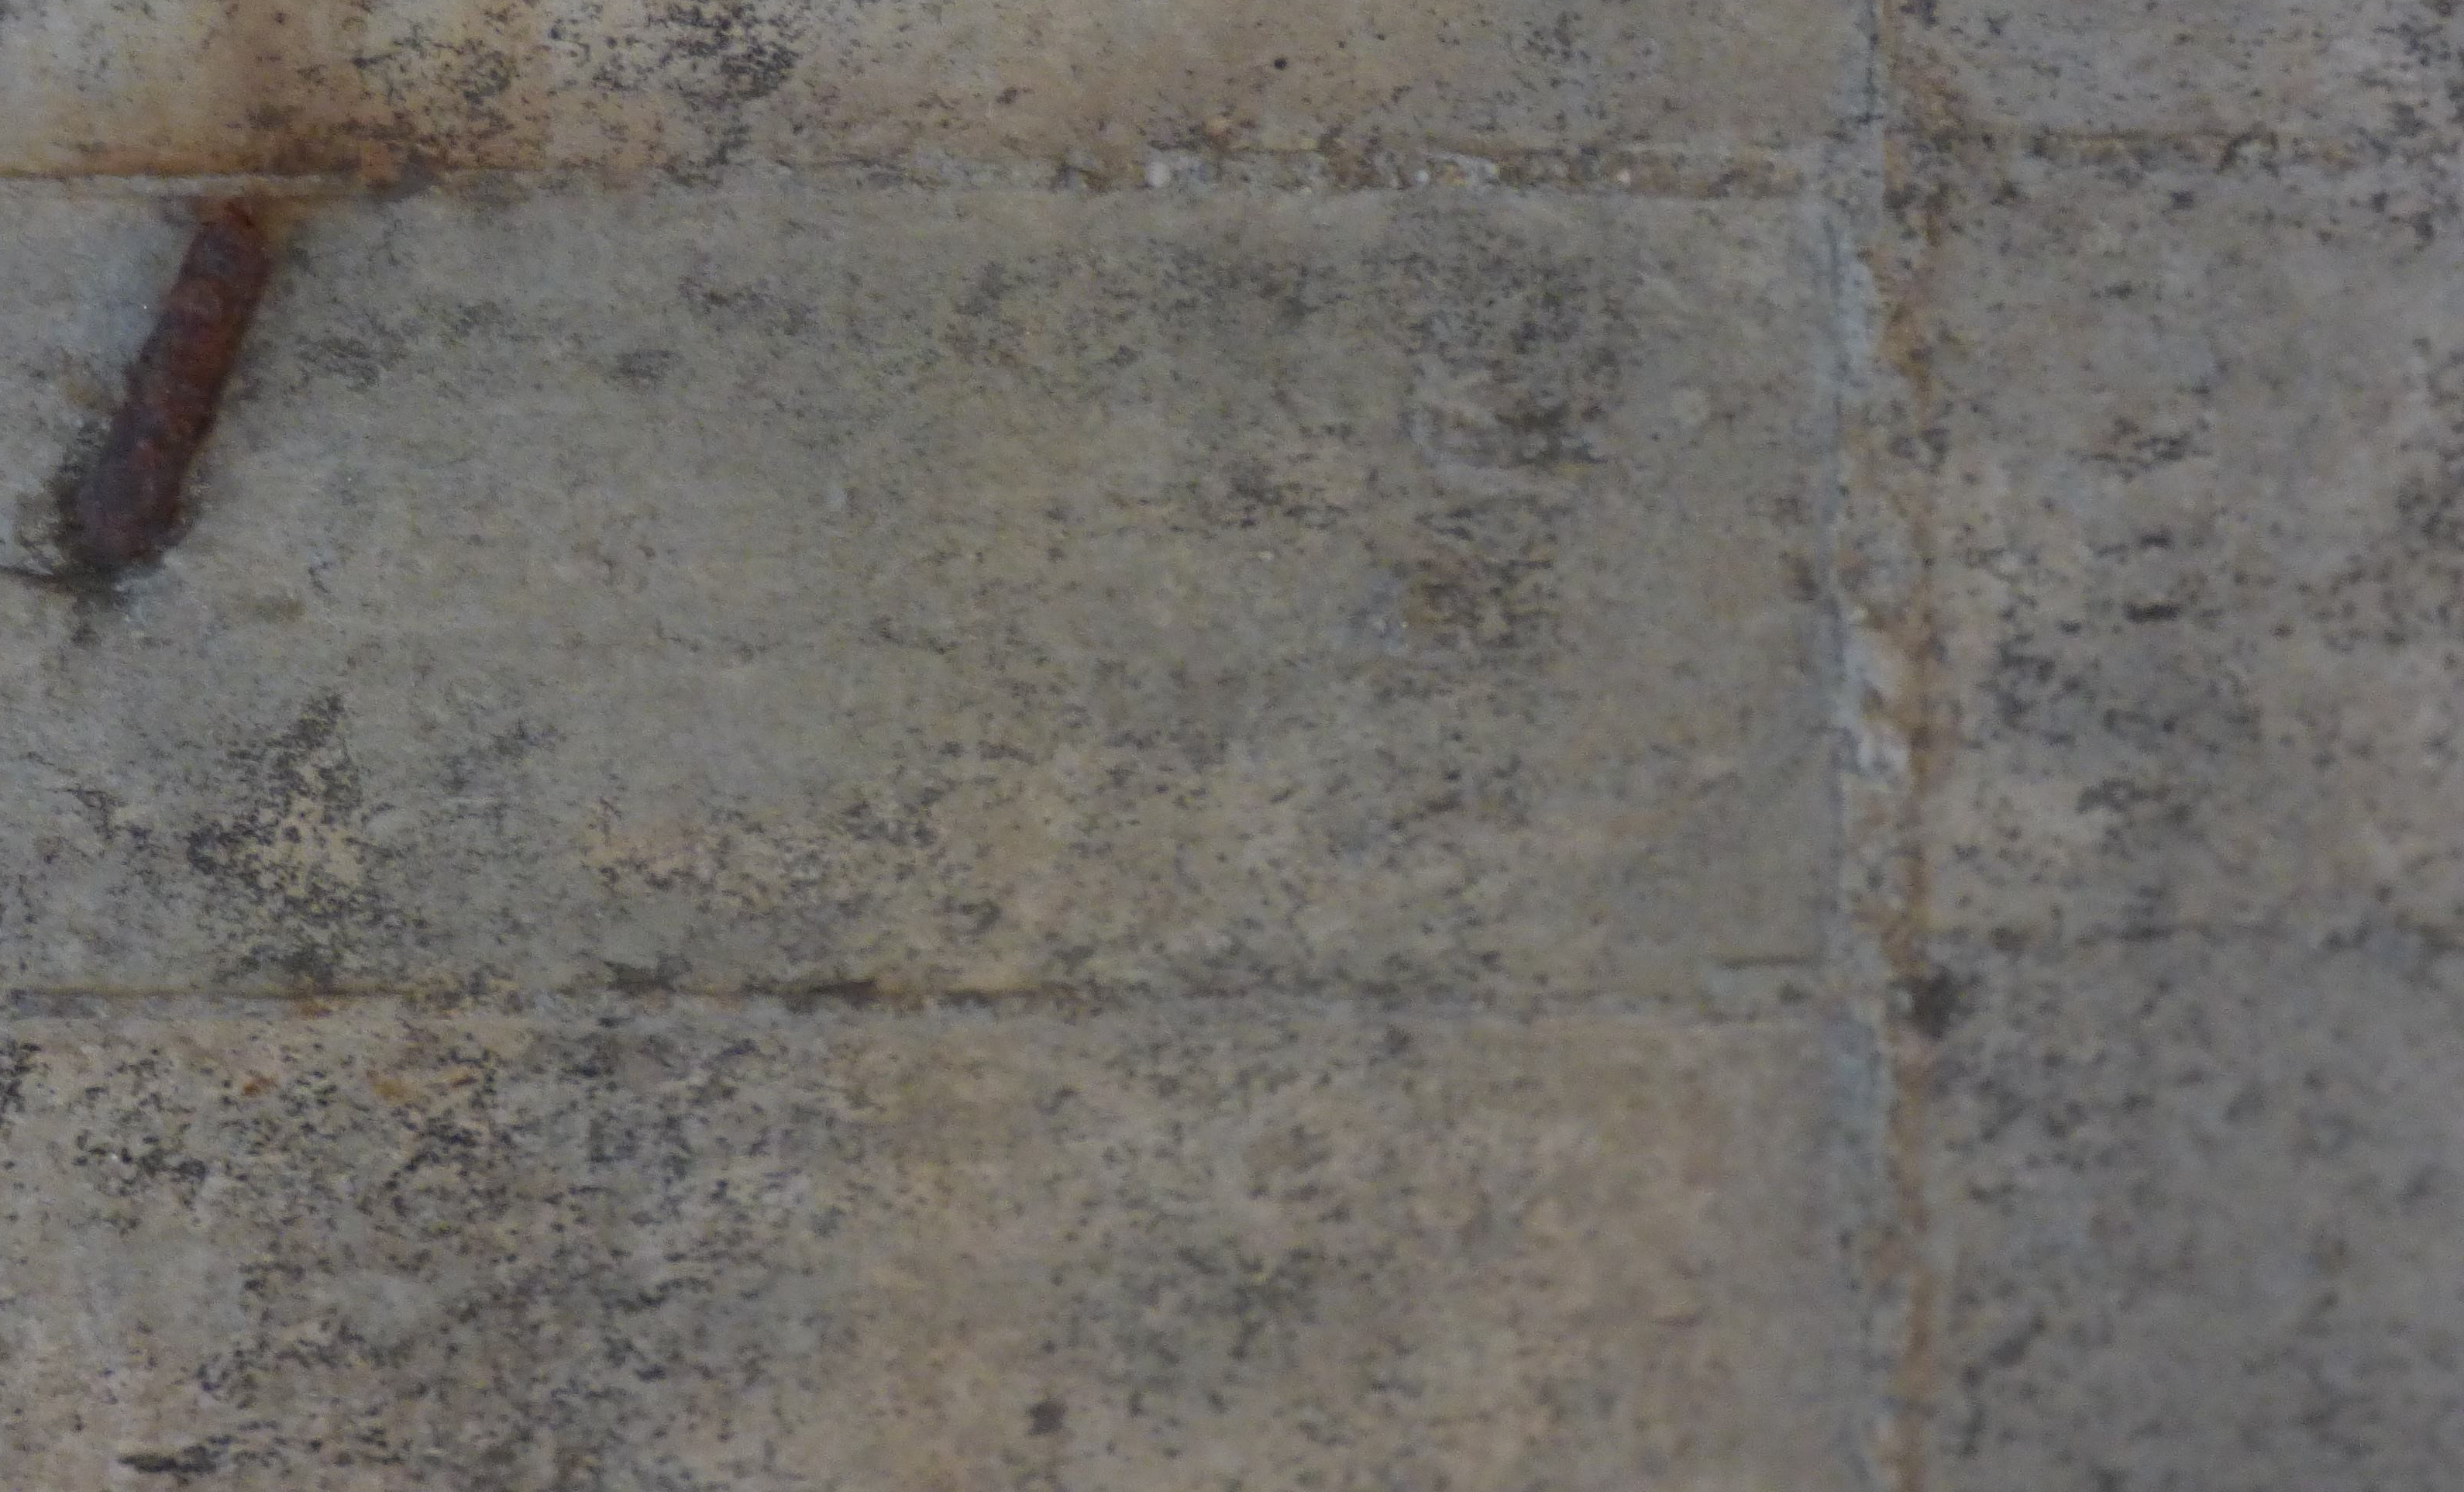Exposed reinforcement: (74, 213, 275, 569)
